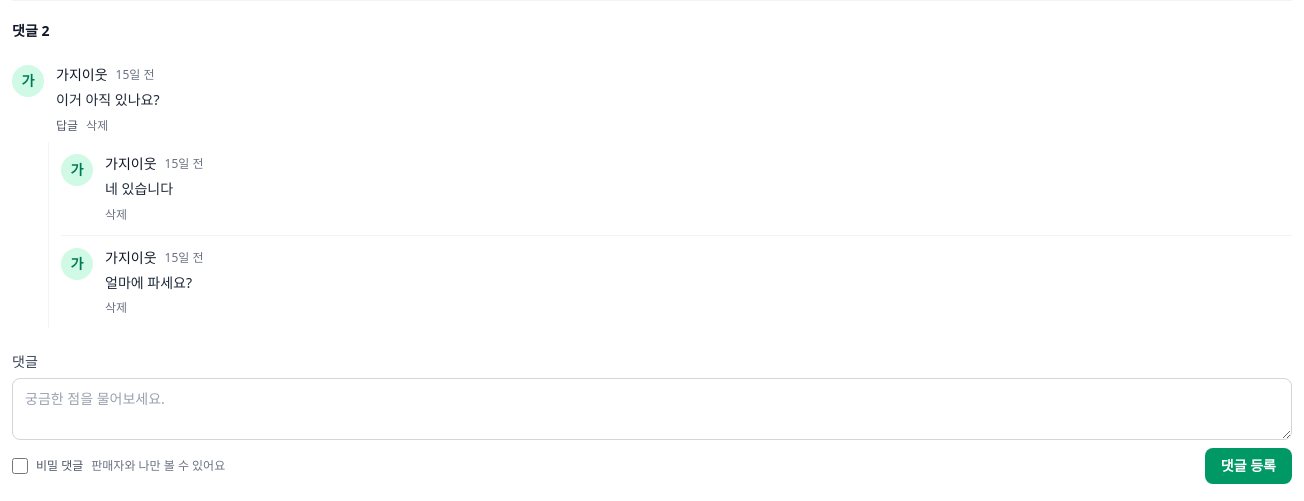
Scenario: CommentSection › 답글이 딸린 댓글을 지울 때 함께 사라지는 수를 알리고, 답글까지 걷어낸다
Click the button "삭제" below "이거 아직 있나요?".
click(97, 126)  # box [86,118,108,134]
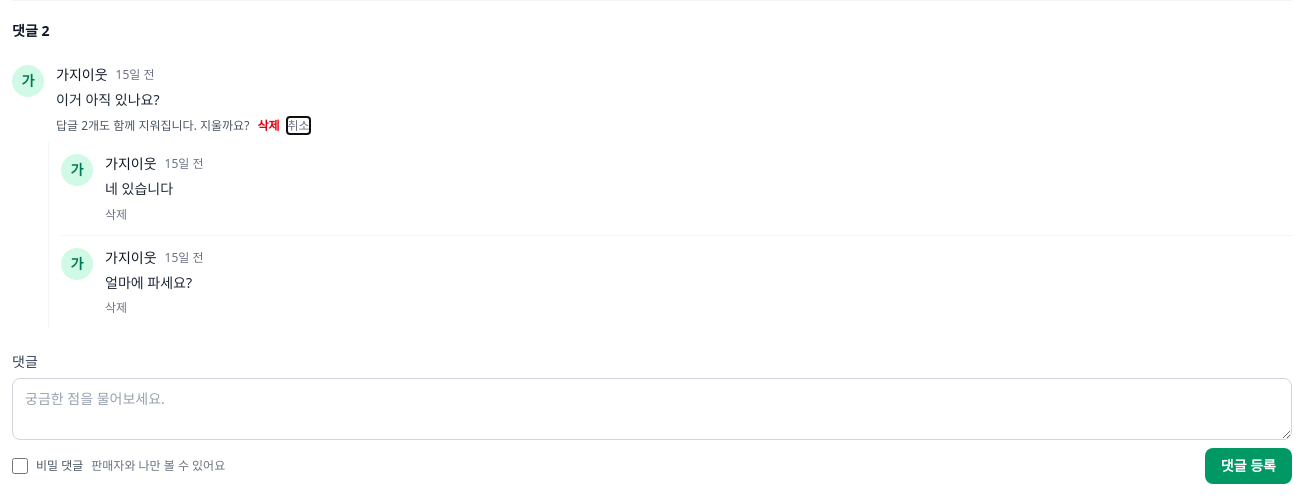
Expected: the text "답글 2개도 함께 지워집니다. 지울까요?" is shown, [56,118,249,134]
Click the button "삭제" next to "답글 2개도 함께 지워집니다. 지울까요?".
click(268, 126)  # box [257,118,280,134]
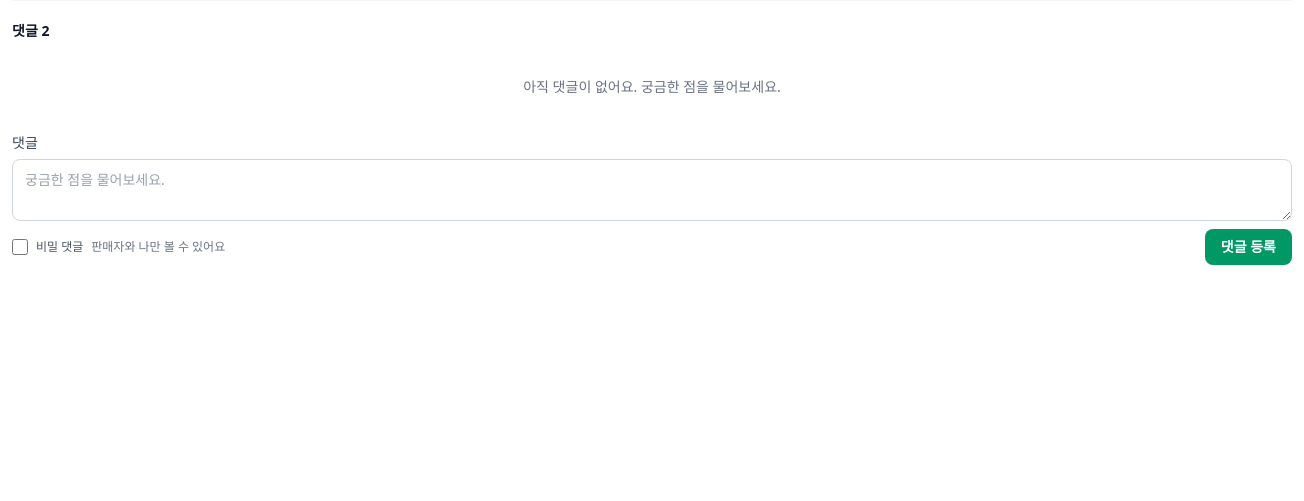
Expected: the text "이거 아직 있나요?" is gone
Expected: the text "네 있습니다" is gone
Expected: the text "얼마에 파세요?" is gone
